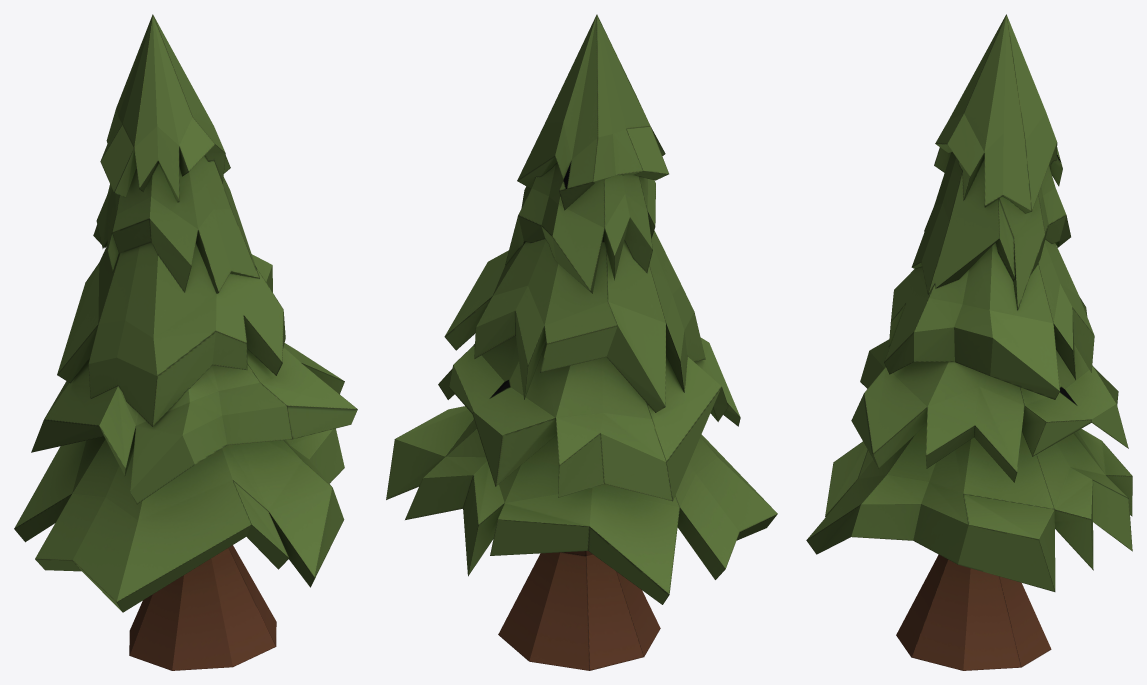
File: tree2.glb
3 views of the same model, side by side, from view 1: azimuth 30°, elevation 25°; view 2: azimuth 150°, elevation 25°; view 3: azimuth 270°, elevation 25° (orthographic). The views are drawn at different scales.
Parts seen in each view (by area): view 1: Tree.011; view 2: Tree.011; view 3: Tree.011.
Part boxes in pixels (x1=…): Tree.011: x1=14, y1=14, x2=357, y2=670; Tree.011: x1=386, y1=14, x2=777, y2=670; Tree.011: x1=806, y1=14, x2=1132, y2=670.
Size of the model in its own units: 0.5119 by 1.01 by 0.4862.
Materials: 2 (2 with a texture image).
